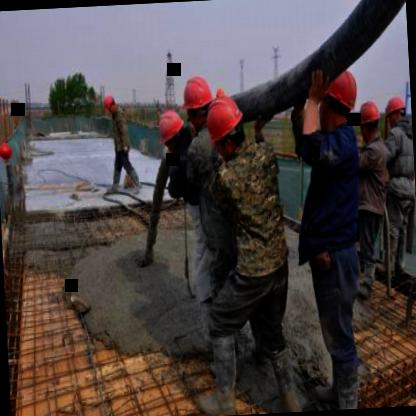helmet: (205, 90, 247, 162), (179, 70, 218, 134), (321, 70, 356, 136), (155, 107, 186, 153), (355, 99, 382, 142), (382, 93, 410, 133), (102, 91, 118, 117)
